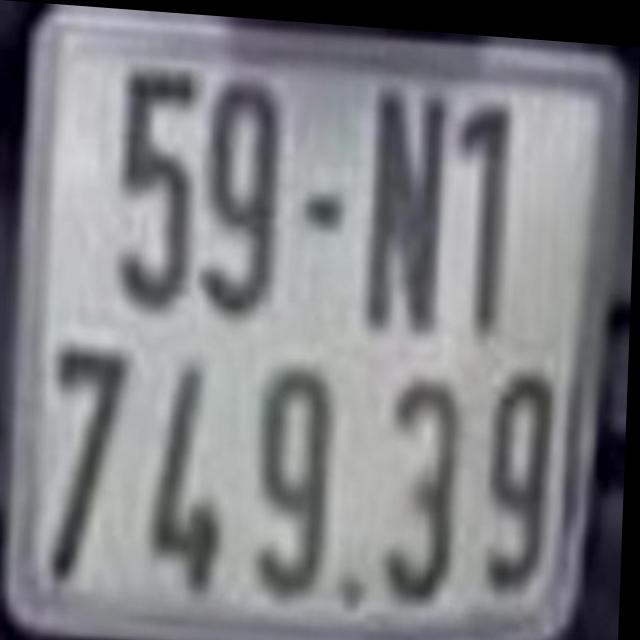1: (448, 90, 523, 329)
3: (393, 370, 463, 597)
4: (154, 361, 238, 594)
5: (115, 62, 201, 300)
7: (51, 342, 133, 580)
9: (255, 362, 336, 609), (203, 73, 286, 308), (484, 362, 565, 587)
N: (362, 79, 453, 339)
